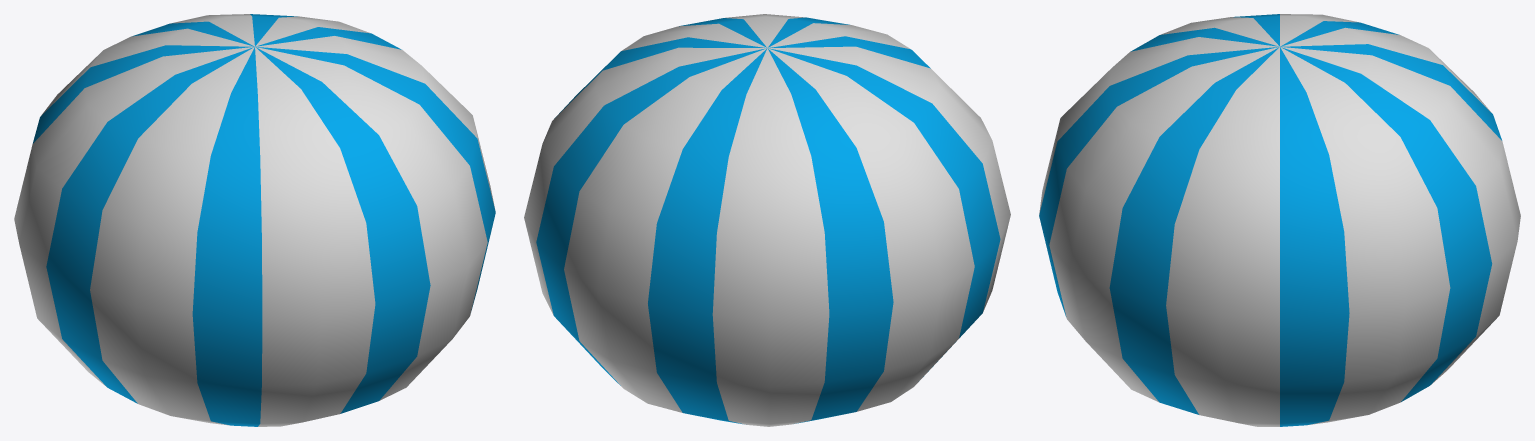
File: badboll.fbx
3 renders of one model, left to right at view 1: azimuth 30°, elevation 25°; view 2: azimuth 150°, elevation 25°; view 3: azimuth 270°, elevation 25°, orthographic.
Visible parts, largest first — view 1: Sphere; view 2: Sphere; view 3: Sphere.
Part boxes in pixels (bbox=[...]): Sphere: bbox=[14, 14, 495, 426]; Sphere: bbox=[524, 14, 1010, 426]; Sphere: bbox=[1039, 14, 1520, 426].
Size of the model in its own units: 200 by 162 by 200.
